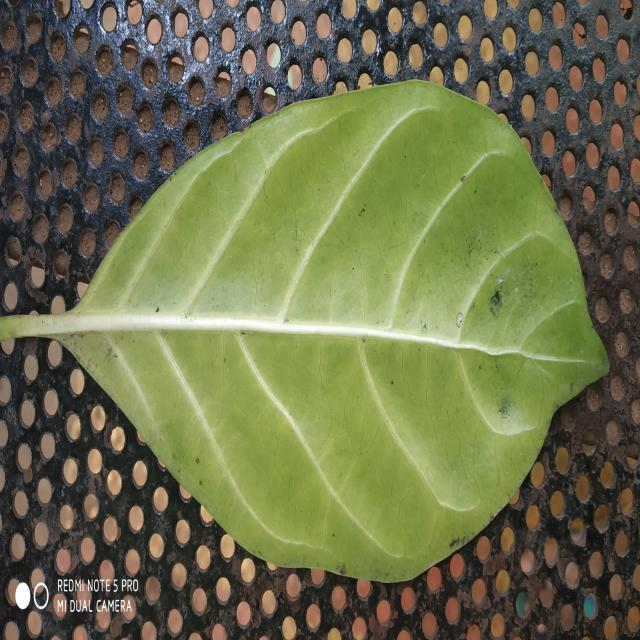nooni: (0, 80, 609, 582)
